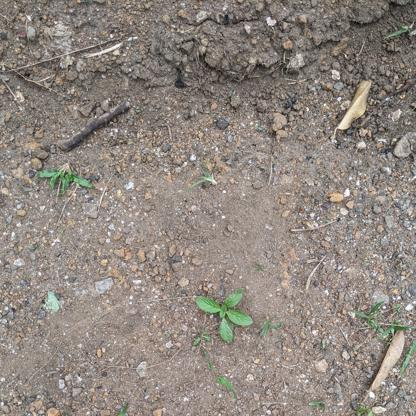weed: (195, 283, 258, 345), (37, 161, 100, 194)
